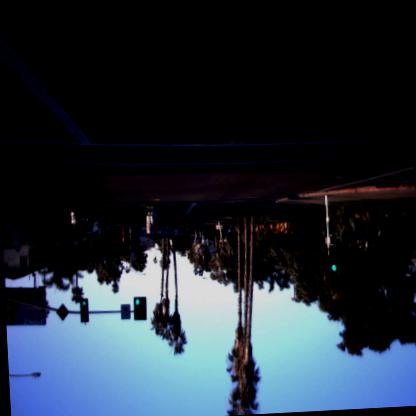trafficlight: (328, 253, 338, 283), (134, 297, 146, 320), (80, 298, 88, 322)
